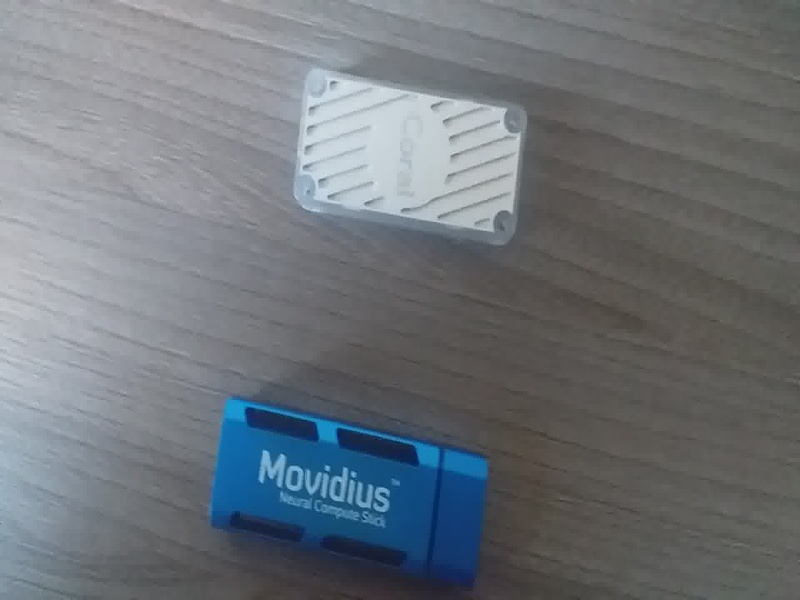coral: (286, 52, 557, 267)
movidius: (204, 389, 496, 595)
